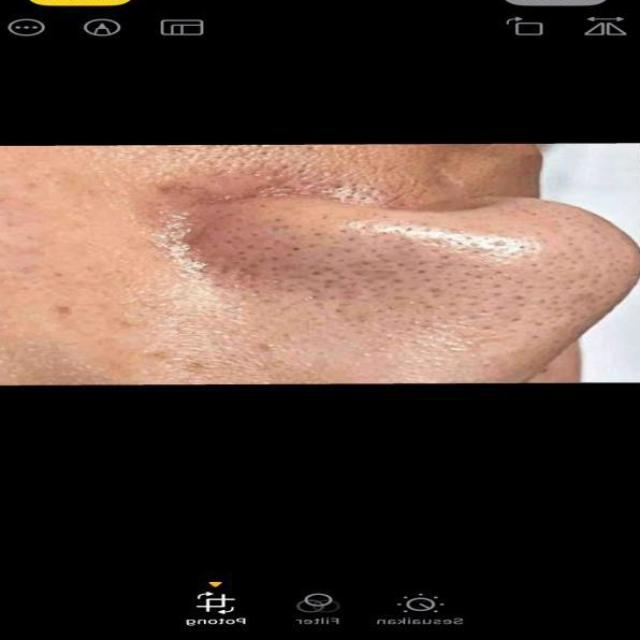blackhead: (207, 224, 640, 351)
